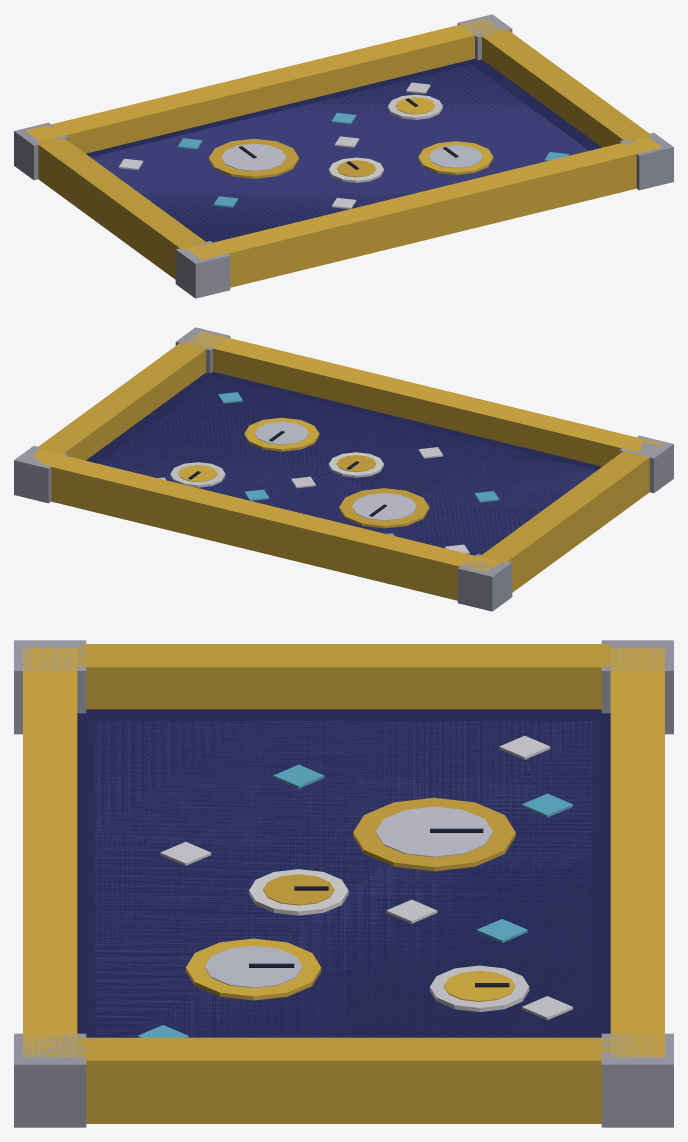
Rendered from Decor_ClockTower_StarPond.fbx.
The picture shows the model from 3 angles, top to bottom: view 1: azimuth 30°, elevation 25°; view 2: azimuth 150°, elevation 25°; view 3: azimuth 270°, elevation 25°; orthographic projection. The views are drawn at different scales.
Parts seen in each view (by area): view 1: StarPond_Body; view 2: StarPond_Body; view 3: StarPond_Body.
Part boxes in pixels (x1,y1,x2,y2): StarPond_Body: (14, 14, 673, 298); StarPond_Body: (14, 327, 673, 611); StarPond_Body: (14, 640, 673, 1127).
Bounding box in the file's own units: 21.6 × 1.5 × 14.2.
